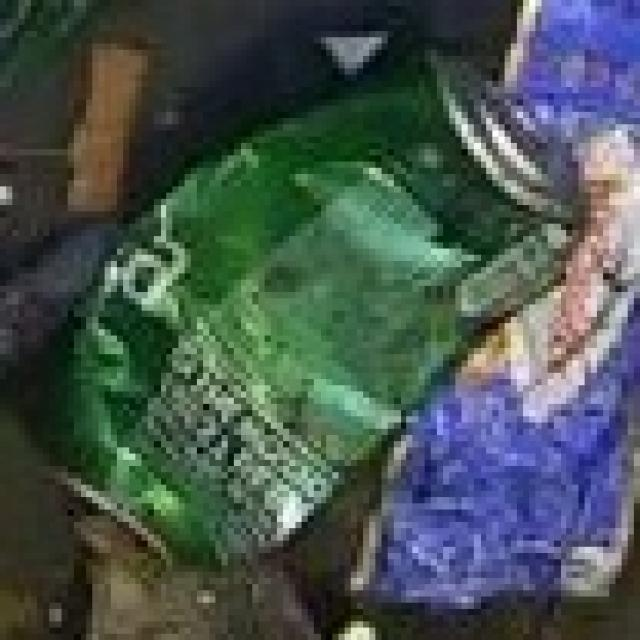can: (22, 72, 590, 558)
